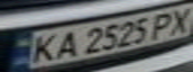2: (78, 24, 106, 55), (118, 17, 139, 47)
5: (130, 14, 157, 44), (103, 20, 124, 52)
A: (48, 28, 81, 61)
K: (24, 32, 63, 65)
P: (145, 9, 181, 39)
X: (163, 5, 193, 35)
